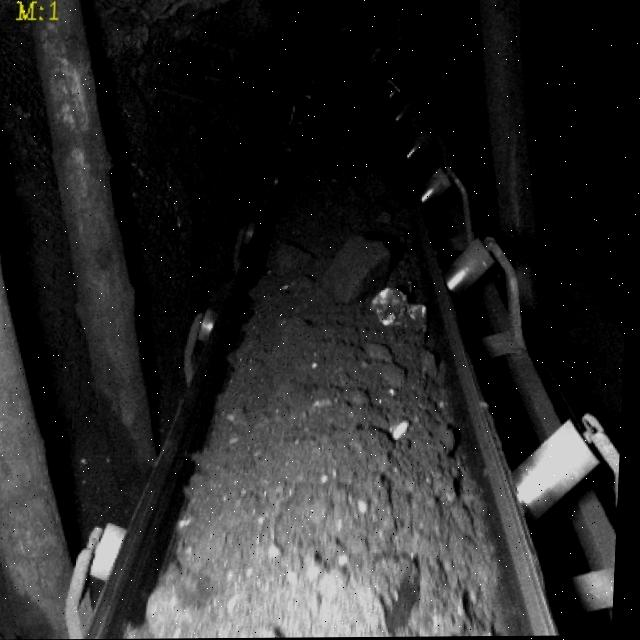large_sized_coal: (324, 240, 392, 306), (370, 289, 433, 335)
